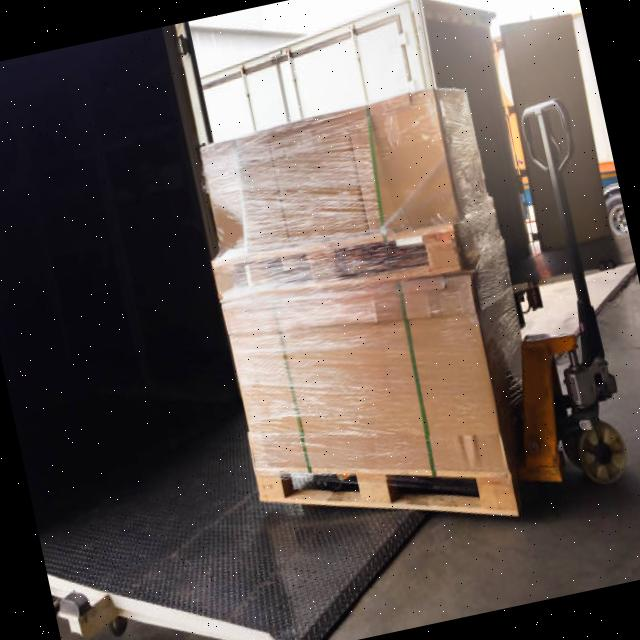Wooden-Pallets: (253, 467, 519, 521)
